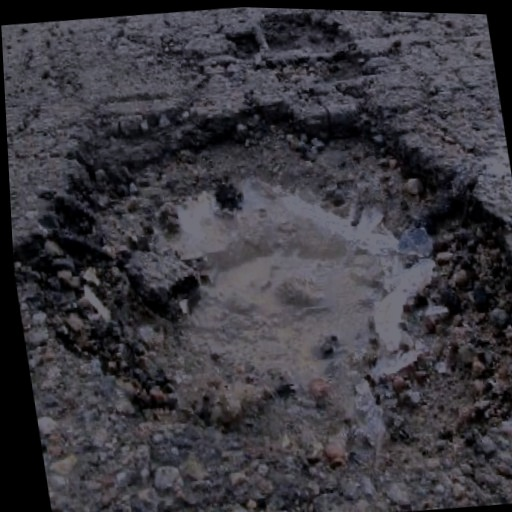pothole: (3, 62, 512, 507), (222, 7, 387, 108)
